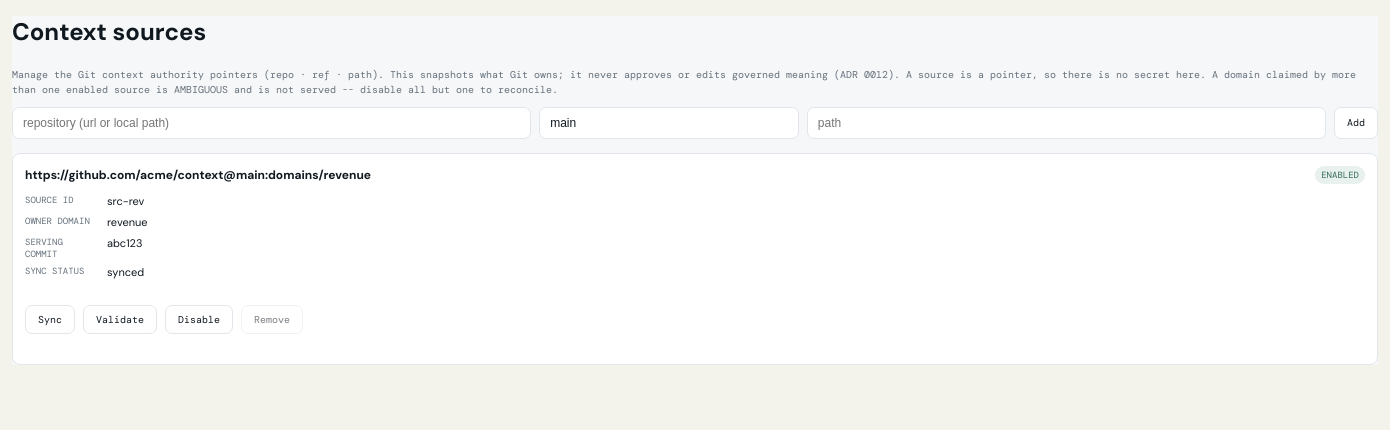
ContextSourcesPanel › Validate re-fetches the sources so the recorded card reflects the live result
The width and height of the screenshot is (1390, 430).
Expected: the number of elements with class "sources-row" is 1, [12,153,1378,365]
Expected: the text "synced" is shown, [107,265,144,279]
Click the button "Validate" at (120, 319), box [83,305,157,334]
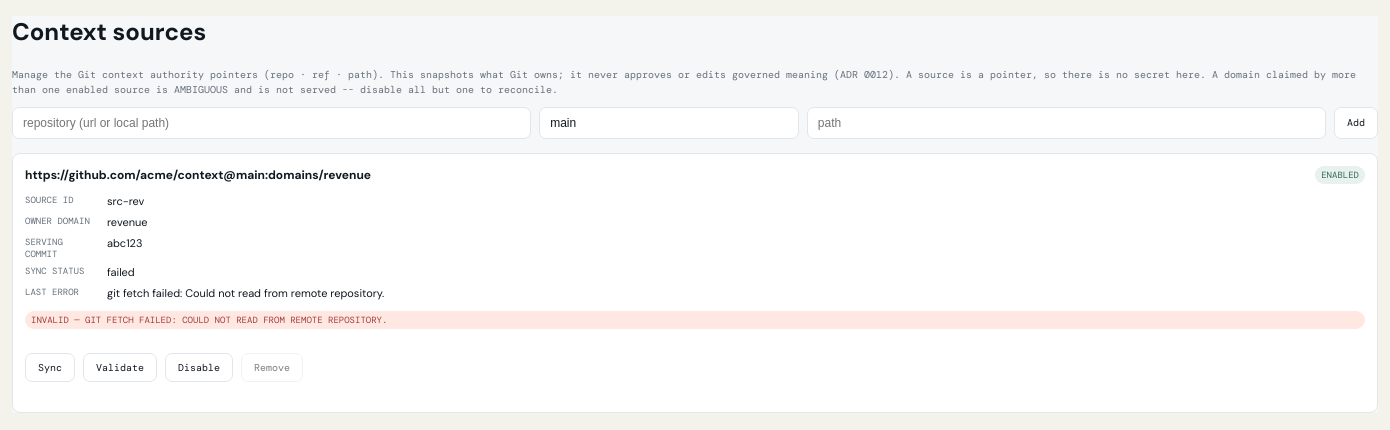
Now the text "failed" is shown, box [107,265,135,279]
